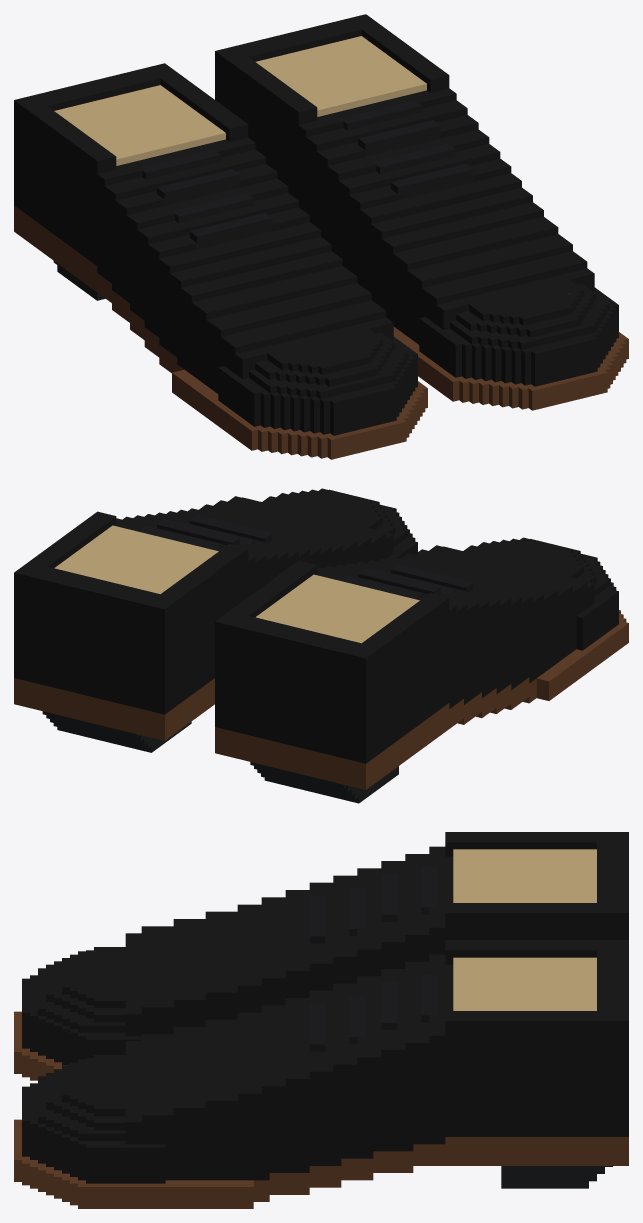
Rendered from dress_shoes.glb.
3 renders of one model, top to bottom at view 1: azimuth 30°, elevation 25°; view 2: azimuth 150°, elevation 25°; view 3: azimuth 270°, elevation 25°, orthographic. The views are drawn at different scales.
Parts seen in each view (by area): view 1: dress_shoes:compound; view 2: dress_shoes:compound; view 3: dress_shoes:compound.
Part boxes in pixels (box(x1,y1,x2,y2)): dress_shoes:compound: box(14, 14, 628, 459); dress_shoes:compound: box(14, 488, 628, 803); dress_shoes:compound: box(14, 832, 628, 1208).
Bounding box in the file's own units: 0.24 × 0.1 × 0.308.
